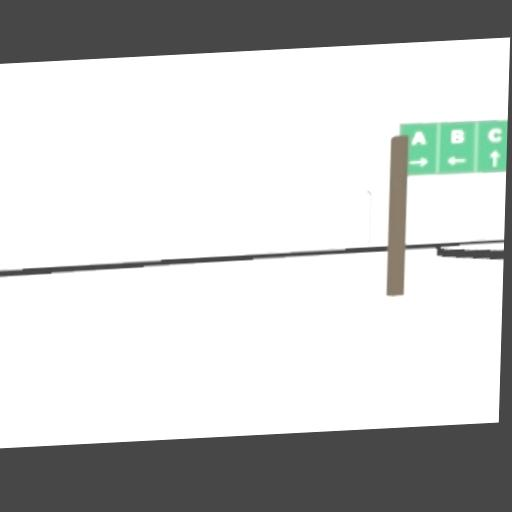A: (410, 130, 425, 145)
B: (451, 128, 465, 142)
C: (487, 127, 502, 142)
Left: (446, 155, 467, 165)
Right: (407, 156, 428, 166)
Straight: (490, 149, 499, 167)
